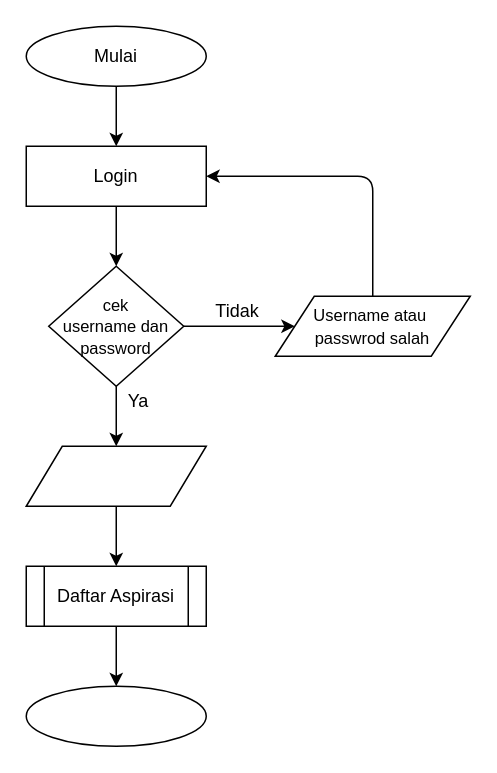
This 497x773 diagram has some shape labels left out. The shapes that lost their labels are listed below. From the top down, each one's centre as x and y in pixels, then its label:
At point 115,475: "Menu Komisi".
At point 115,715: "Selesai".
